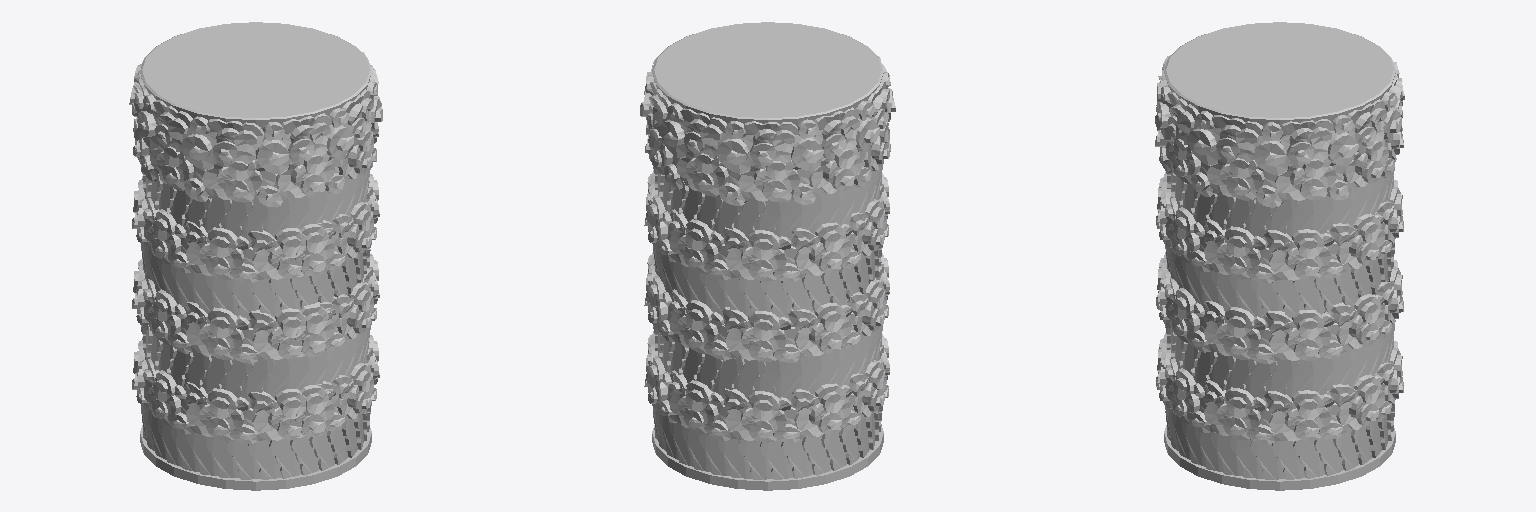
Rendered from Pillar Base_C.obj.
3 renders of one model, left to right at view 1: azimuth 30°, elevation 25°; view 2: azimuth 150°, elevation 25°; view 3: azimuth 270°, elevation 25°, orthographic.
Visible parts, largest first — view 1: Pillar_Base; view 2: Pillar_Base; view 3: Pillar_Base.
Part boxes in pixels (bbox=[...]): Pillar_Base: bbox=[129, 22, 382, 490]; Pillar_Base: bbox=[640, 22, 895, 490]; Pillar_Base: bbox=[1155, 22, 1404, 490].
Size of the model in its own units: 2.05 by 3.29 by 2.02.